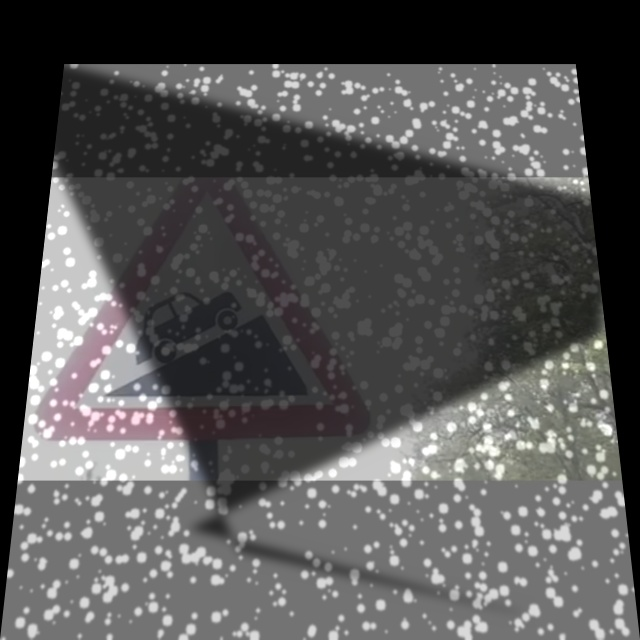Steep_Ascent: (48, 193, 364, 437)
